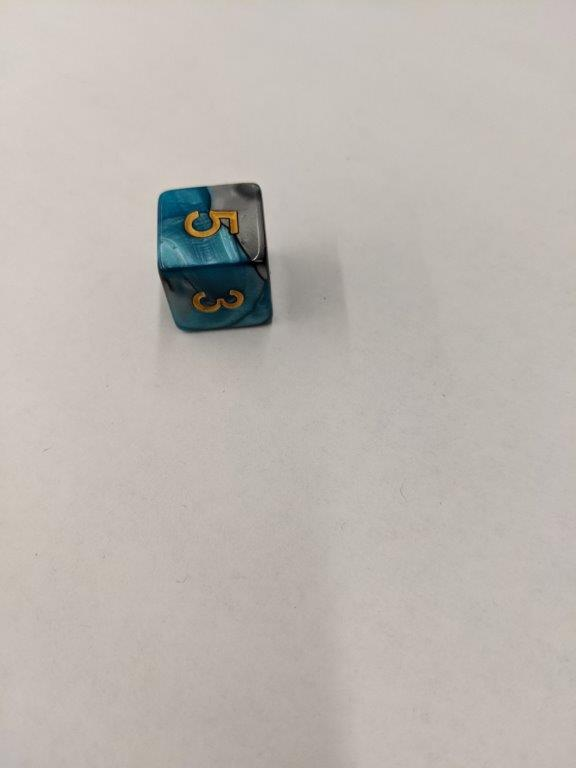d6-5: (160, 181, 275, 335)
